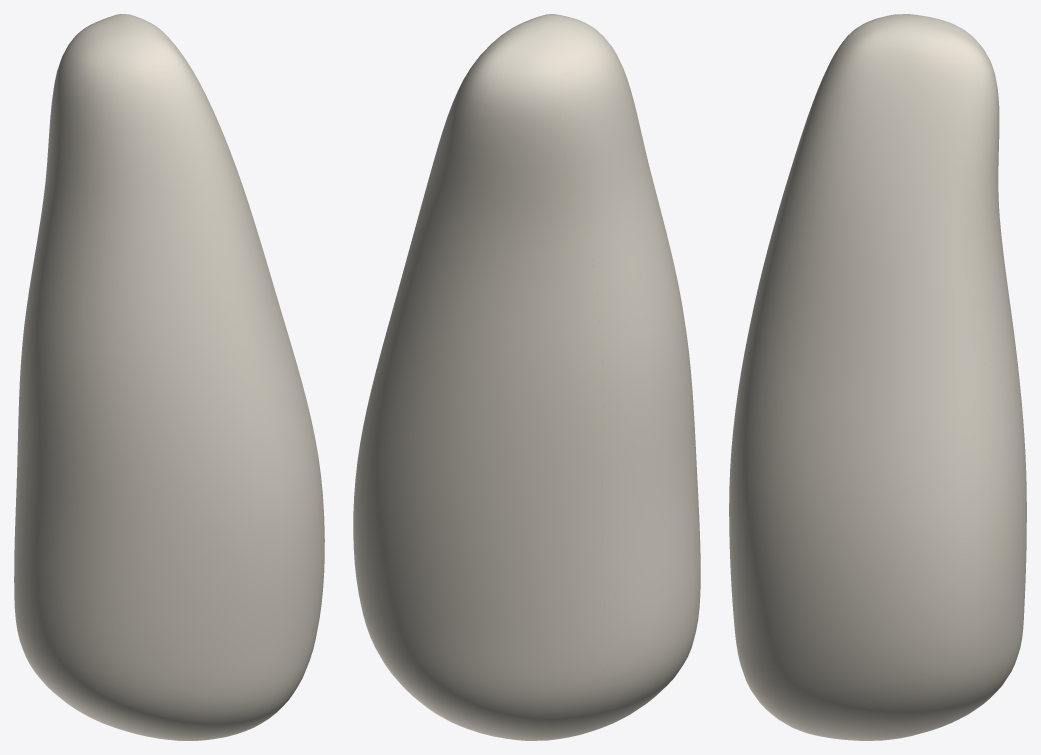
Rendered from rightUpperLeg.dae.
3 views of the same model, side by side, from view 1: azimuth 30°, elevation 25°; view 2: azimuth 150°, elevation 25°; view 3: azimuth 270°, elevation 25° (orthographic). The views are drawn at different scales.
Parts seen in each view (by area): view 1: upper.1; view 2: upper.1; view 3: upper.1.
Part boxes in pixels (bbox=[...]): upper.1: bbox=[14, 14, 324, 740]; upper.1: bbox=[353, 14, 700, 740]; upper.1: bbox=[729, 14, 1026, 740].
Size of the model in its own units: 84.72 by 197 by 76.92.
1 material, 1 textured.
